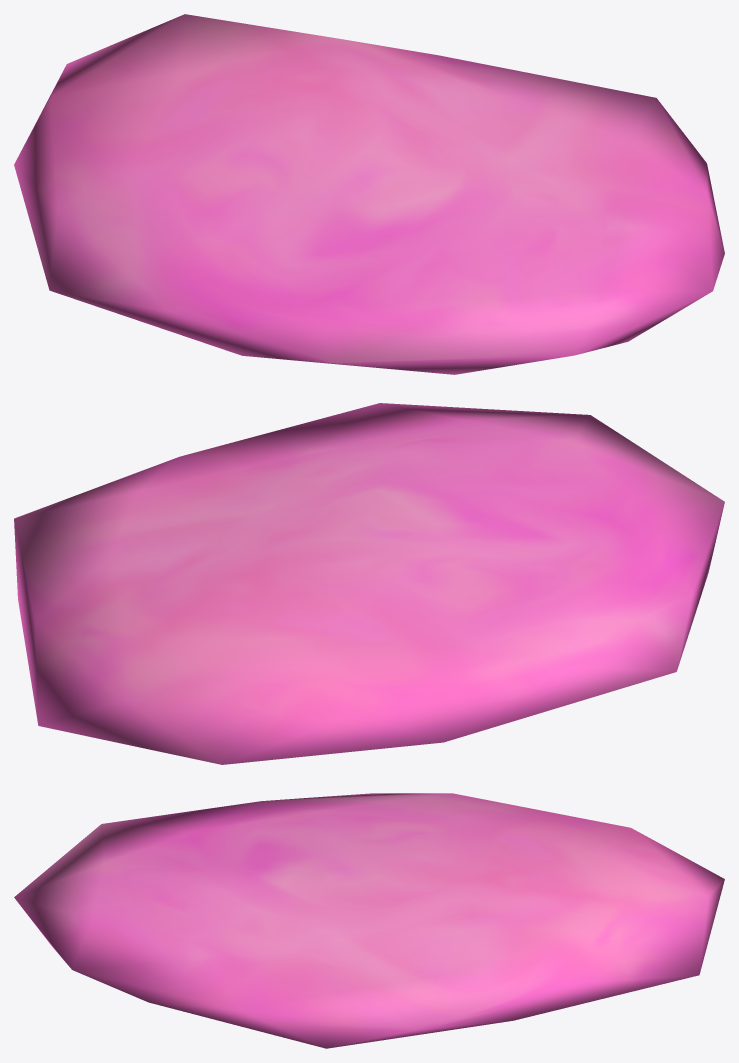
File: melt_gum.fbx
The picture shows the model from 3 angles, top to bottom: view 1: azimuth 30°, elevation 25°; view 2: azimuth 150°, elevation 25°; view 3: azimuth 270°, elevation 25°; orthographic projection. The views are drawn at different scales.
Visible parts, largest first — view 1: MeltGum; view 2: MeltGum; view 3: MeltGum.
Boxes of the visible parts, bbox=[...] form: MeltGum: bbox=[14, 14, 724, 374]; MeltGum: bbox=[14, 403, 724, 764]; MeltGum: bbox=[14, 793, 724, 1048].
Size of the model in its own units: 10.08 by 1.42 by 12.04.
